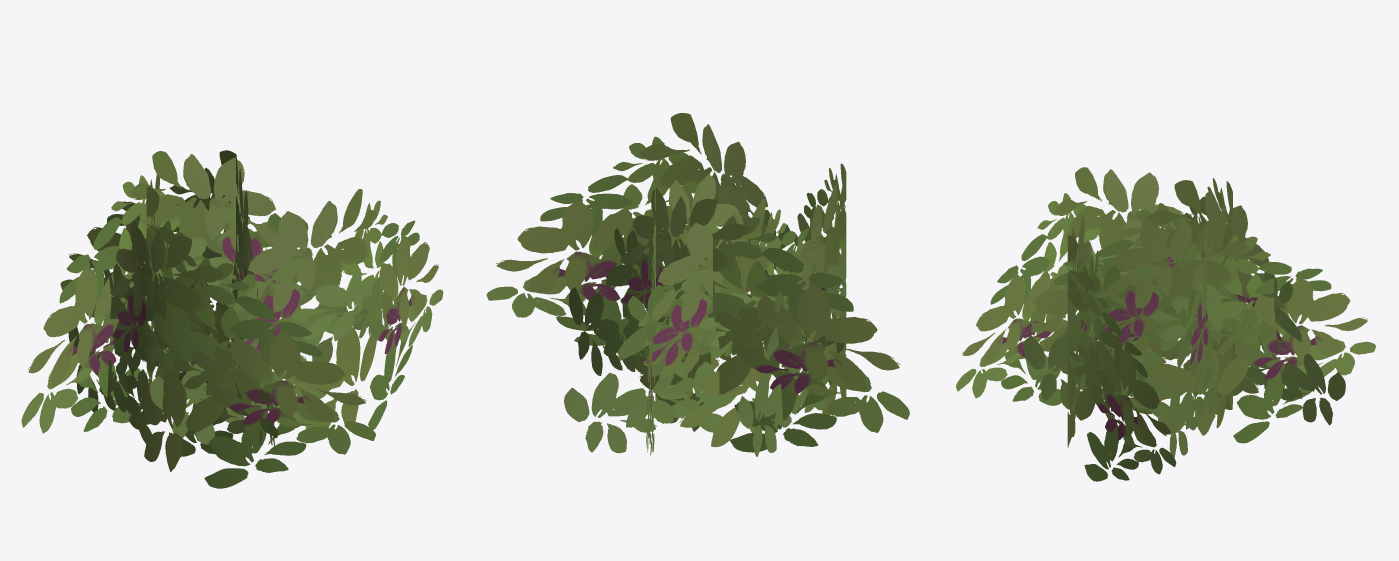
File: bush2 1.fbx
3 renders of one model, left to right at view 1: azimuth 30°, elevation 25°; view 2: azimuth 150°, elevation 25°; view 3: azimuth 270°, elevation 25°, orthographic. The views are drawn at different scales.
Parts seen in each view (by area): view 1: Plane.018; view 2: Plane.018; view 3: Plane.018.
Part boxes in pixels (x1,y1,x2,y2): Plane.018: [21, 150, 443, 488]; Plane.018: [486, 113, 909, 456]; Plane.018: [956, 167, 1375, 481].
Bounding box in the file's own units: 233 × 205 × 217.
Materials: 1 (1 with a texture image).
